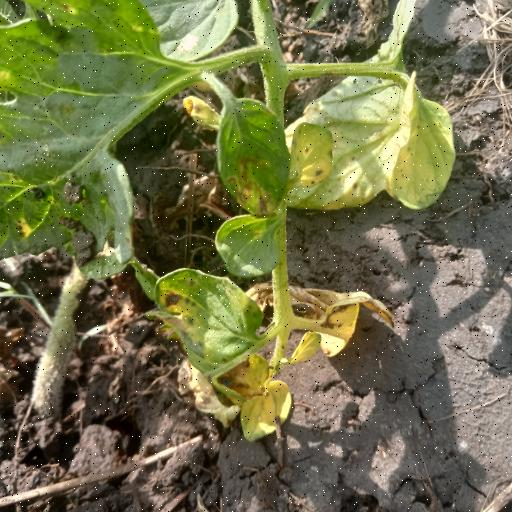Tomato_Brown_Spots: (292, 2, 458, 217), (148, 268, 274, 378), (216, 95, 296, 221)
